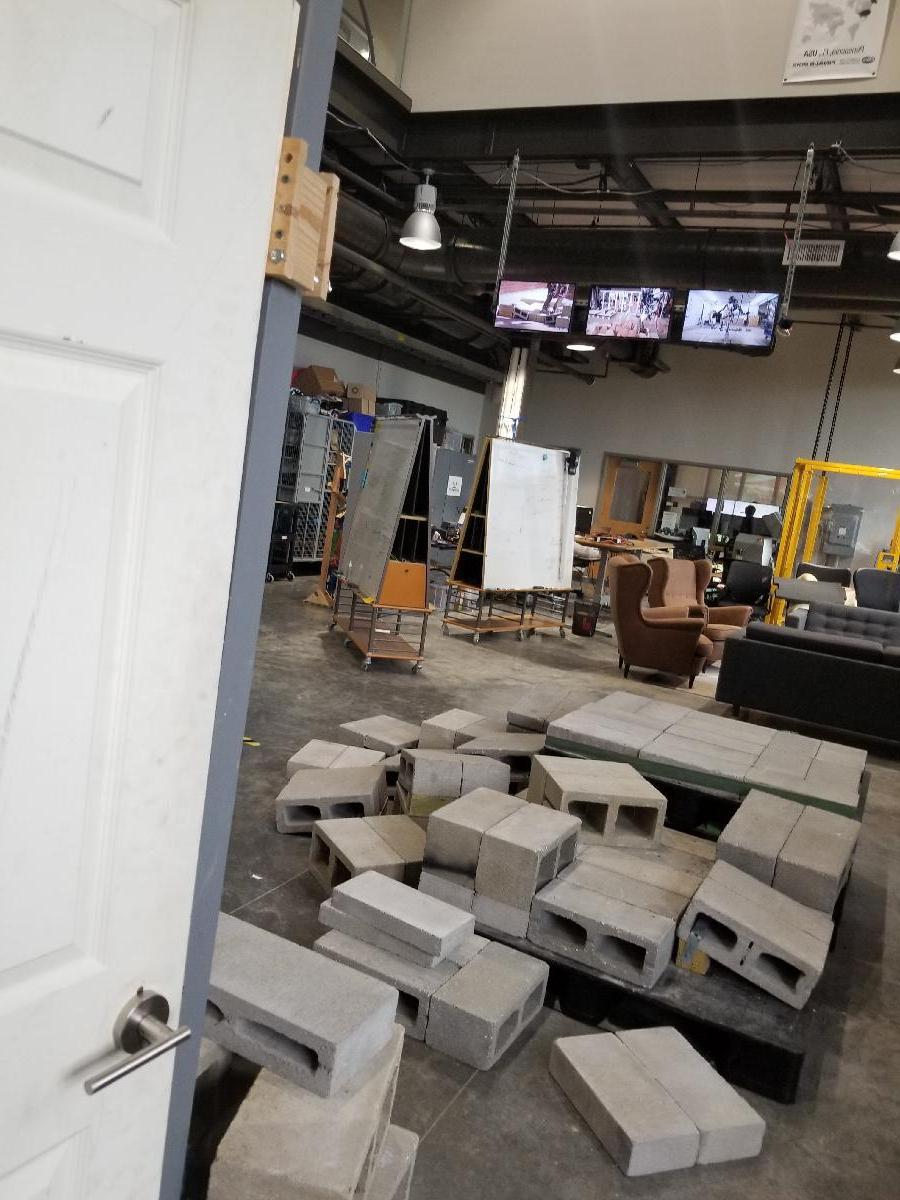door: (0, 0, 197, 1200)
handle: (81, 978, 194, 1101)
